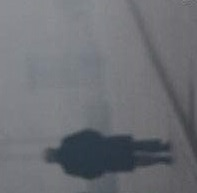person: (42, 127, 174, 180)
